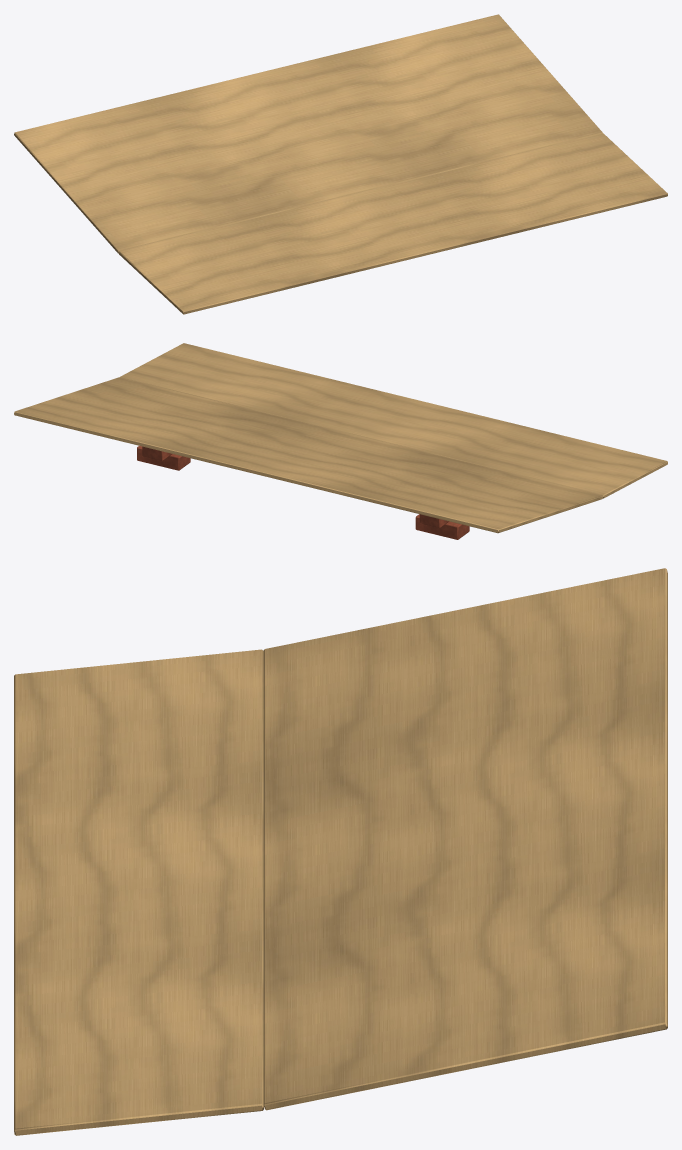
Rendered from kicker.glb.
3 views of the same model, one above another, from view 1: azimuth 30°, elevation 25°; view 2: azimuth 150°, elevation 25°; view 3: azimuth 270°, elevation 25° (orthographic). The views are drawn at different scales.
Visible parts, largest first — view 1: kicker; view 2: kicker; view 3: kicker.
Part boxes in pixels (<box>): kicker: <box>14,14,667,314</box>; kicker: <box>14,343,667,539</box>; kicker: <box>14,568,667,1135</box>.
Size of the model in its own units: 10.8 by 1.25 by 6.55.
Materials: 2 (2 with a texture image).
